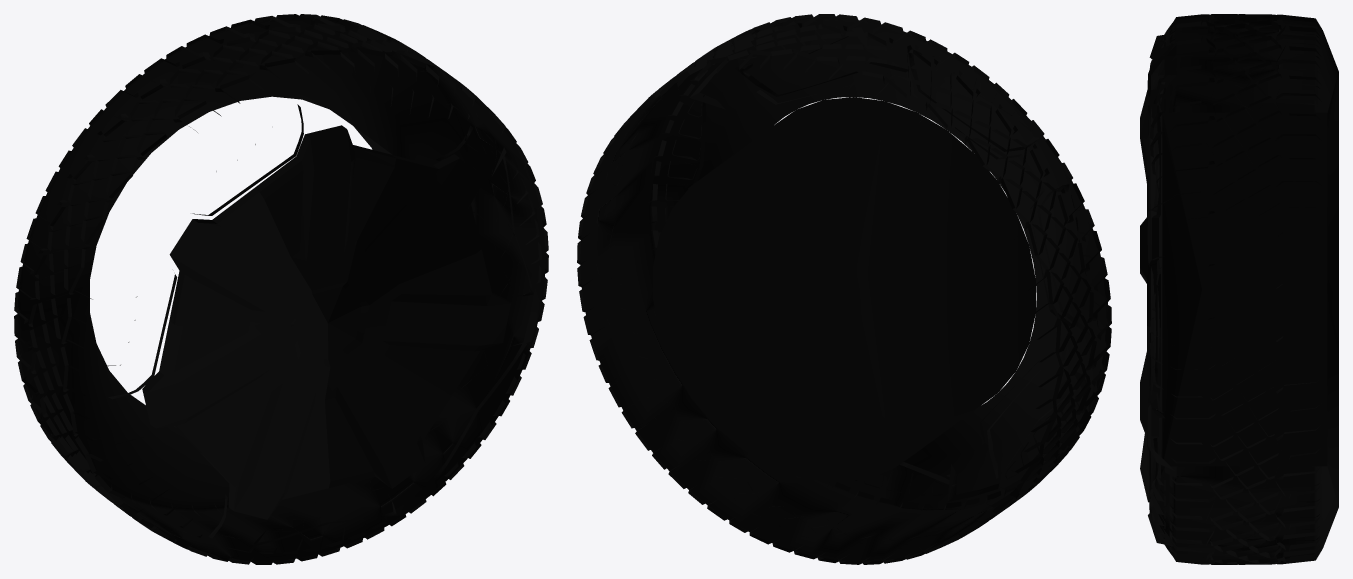
Rendered from Wheel_Cybertruck_Premium.glb.
3 renders of one model, left to right at view 1: azimuth 30°, elevation 25°; view 2: azimuth 150°, elevation 25°; view 3: azimuth 270°, elevation 25°, orthographic.
Parts seen in each view (by area): view 1: Wheel_Cybertruck_Premium2; view 2: Wheel_Cybertruck_Premium2; view 3: Wheel_Cybertruck_Premium2.
Boxes of the visible parts, x1,y1,x2,y2 form: Wheel_Cybertruck_Premium2: (14, 14, 548, 564); Wheel_Cybertruck_Premium2: (577, 14, 1111, 564); Wheel_Cybertruck_Premium2: (1140, 14, 1338, 564).
Size of the model in its own units: 0.8754 by 0.8754 by 0.3159.
2 materials, 2 textured.
